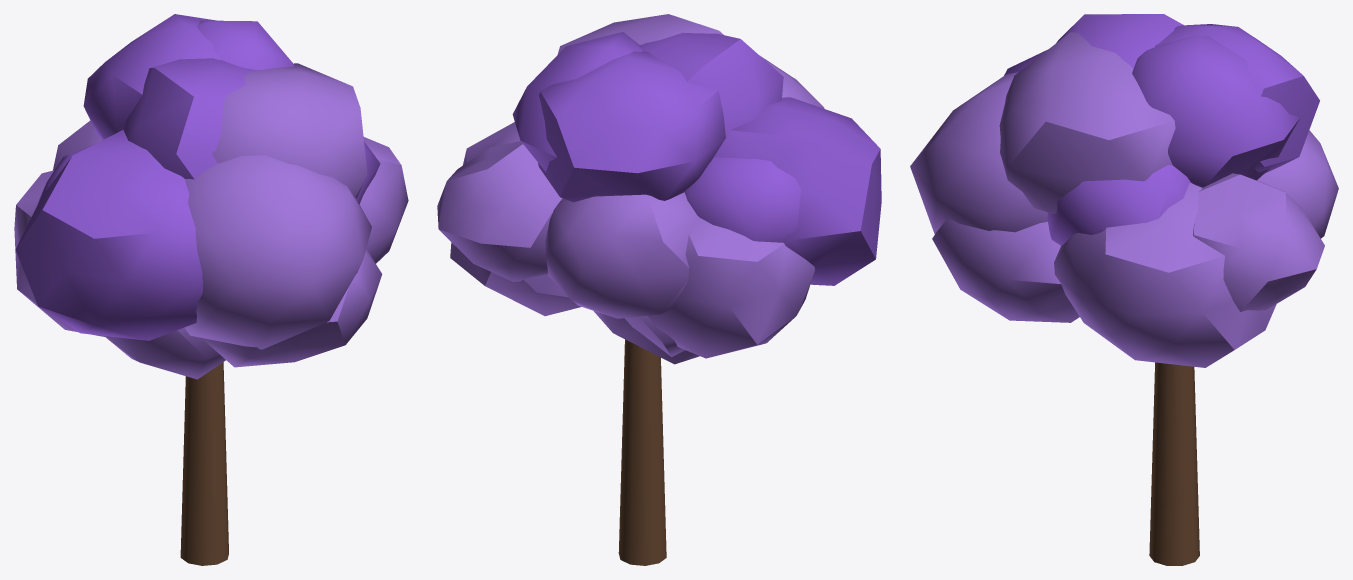
The model's file is tree_jacaranda.fbx.
3 views of the same model, side by side, from view 1: azimuth 30°, elevation 25°; view 2: azimuth 150°, elevation 25°; view 3: azimuth 270°, elevation 25° (orthographic). The views are drawn at different scales.
Parts seen in each view (by area): view 1: tree_jacaranda; view 2: tree_jacaranda; view 3: tree_jacaranda.
Boxes of the visible parts, bbox=[...] form: tree_jacaranda: bbox=[14, 14, 408, 565]; tree_jacaranda: bbox=[437, 14, 881, 565]; tree_jacaranda: bbox=[910, 14, 1338, 565].
Size of the model in its own units: 5.06 by 6.48 by 4.75.
